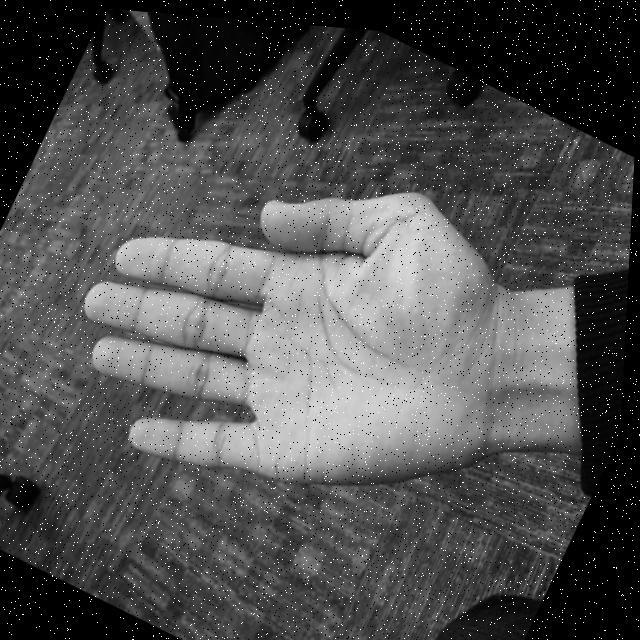no-gloves: (32, 64, 585, 596)
